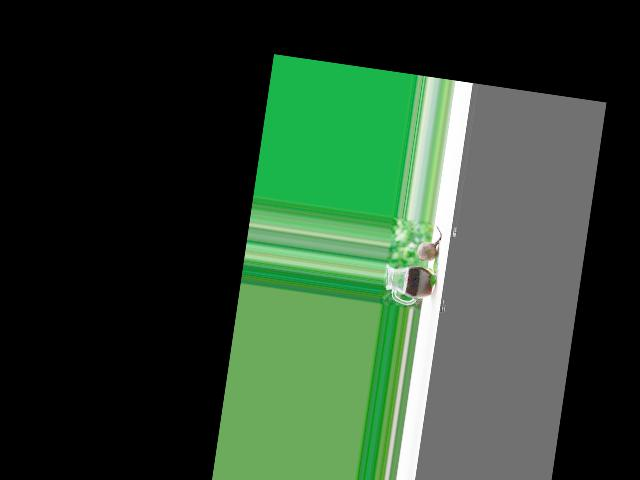beet: (416, 224, 443, 263)
